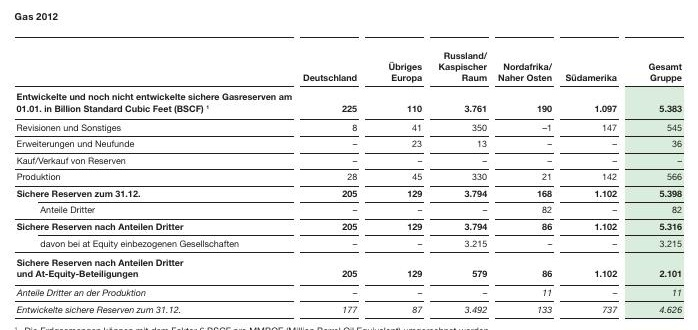table: (0, 0, 698, 330)
